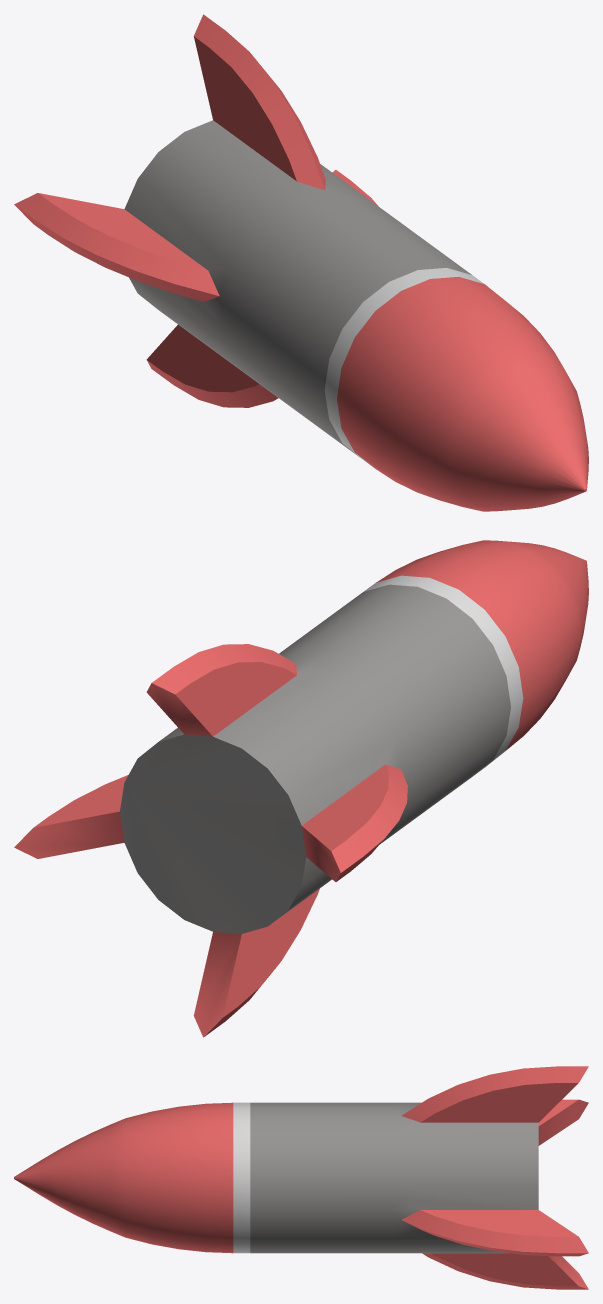
Rendered from red_rocket.fbx.
3 views of the same model, one above another, from view 1: azimuth 30°, elevation 25°; view 2: azimuth 150°, elevation 25°; view 3: azimuth 270°, elevation 25° (orthographic). The views are drawn at different scales.
Parts seen in each view (by area): view 1: rocket; view 2: rocket; view 3: rocket.
Part boxes in pixels (x1,y1,x2,y2): rocket: (14, 14, 588, 511); rocket: (14, 540, 588, 1037); rocket: (14, 1066, 588, 1289).
Bounding box in the file's own units: 0.9068 × 0.9068 × 1.96.
